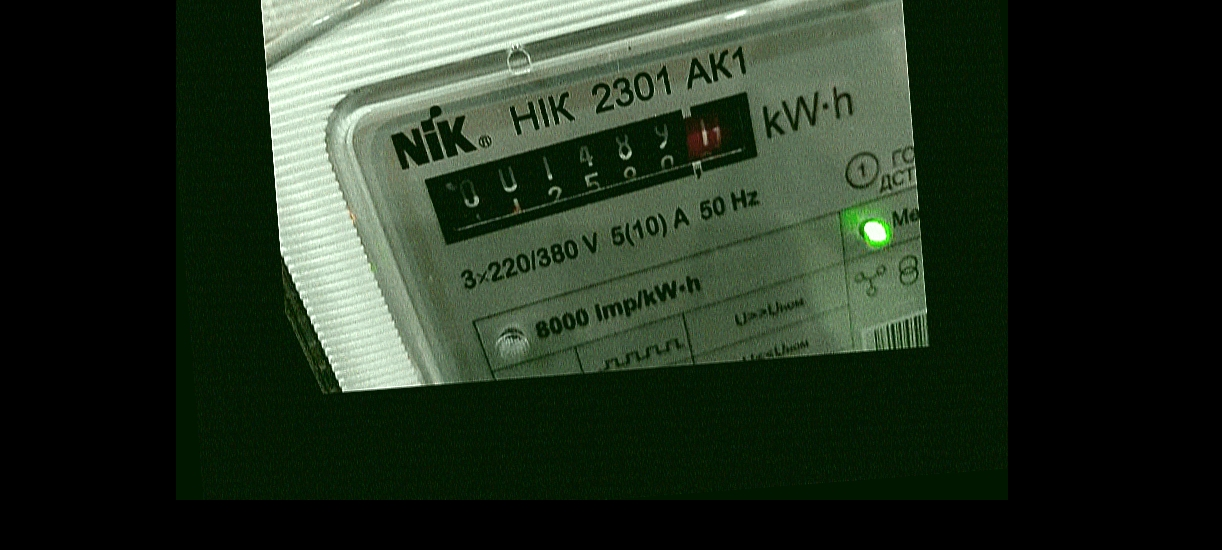0: (493, 157, 522, 195), (456, 174, 483, 211)
1: (693, 110, 715, 149), (536, 150, 559, 182)
4: (574, 137, 598, 169)
8: (613, 126, 637, 163)
9: (651, 117, 674, 150)
screen: (408, 78, 793, 258)
